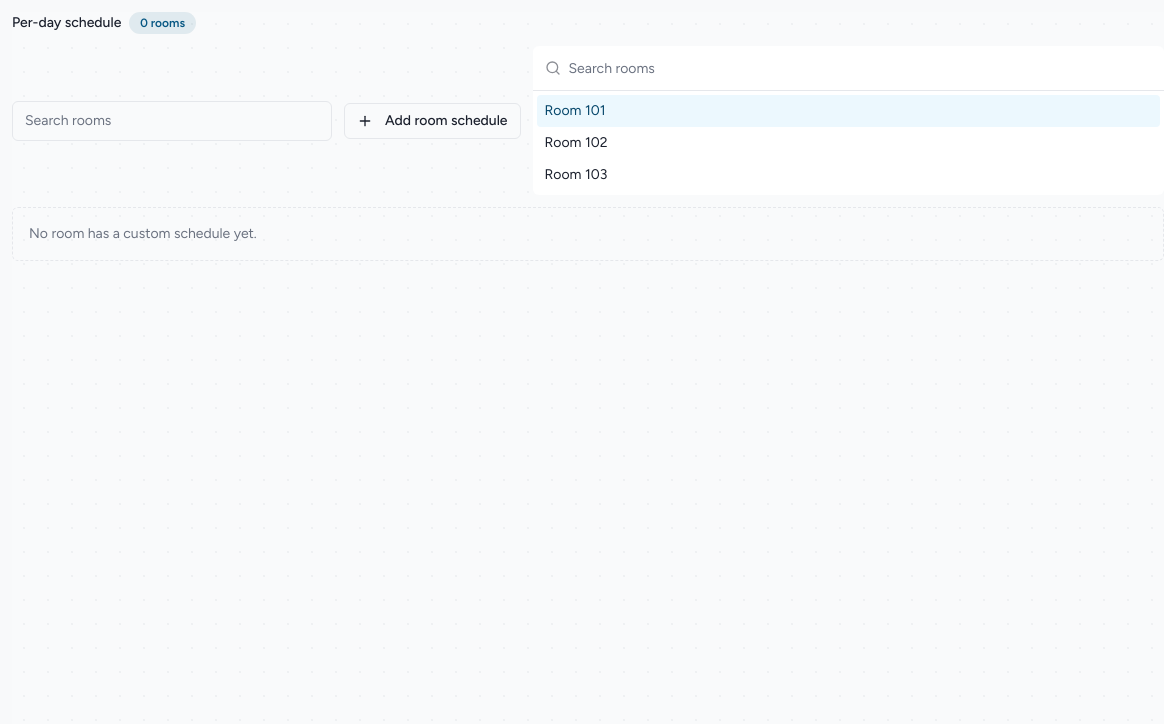
Test: WeeklyScheduleField › toggling a day on adds a window prefilled with the resolved default
Click the option "Room 101". click: (575, 110)
box: x1=536 y1=95 x2=1160 y2=127
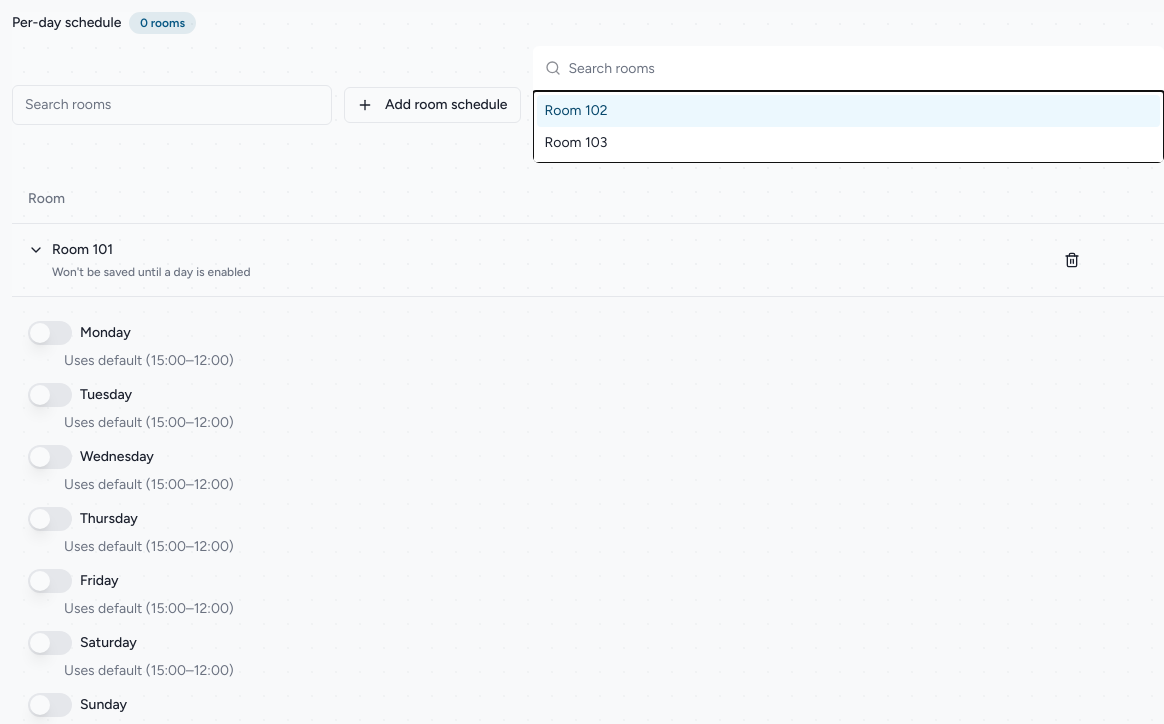
Click the switch named "Monday — Room 101". click: (50, 332)
box: x1=28 y1=320 x2=72 y2=344
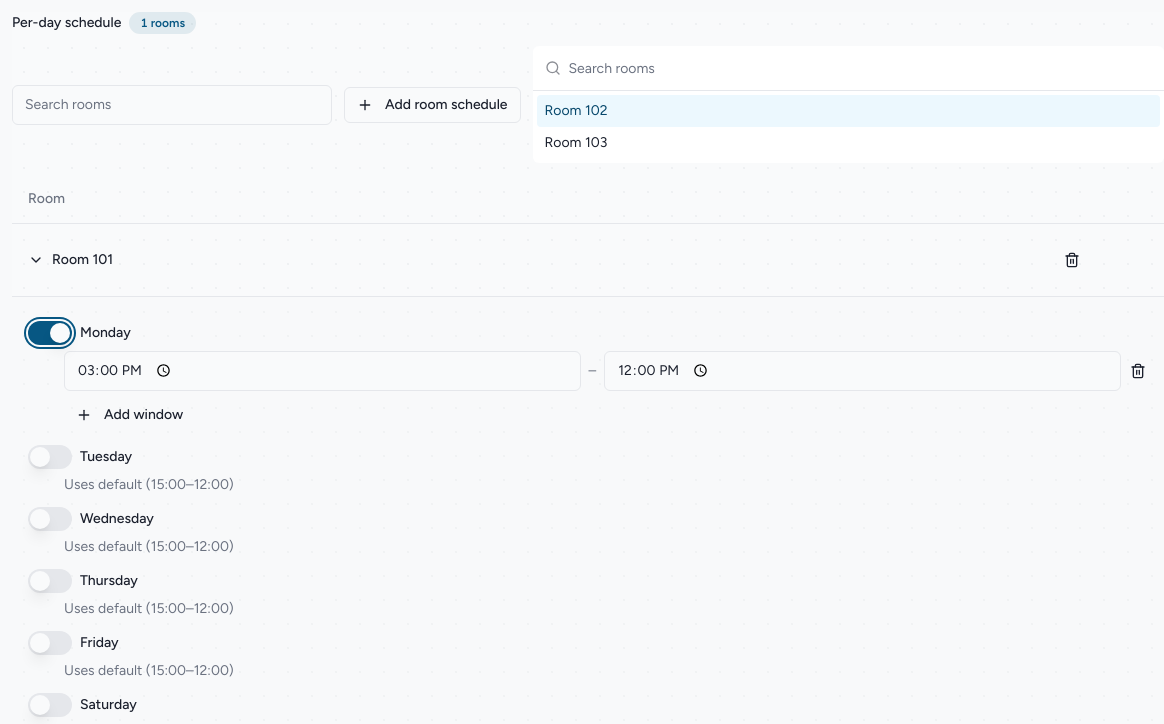
Check: the time field named "Check-in" holds "15:00", box x1=64 y1=350 x2=581 y2=390
Check: the time field named "Check-out" holds "12:00", box x1=604 y1=350 x2=1121 y2=390
